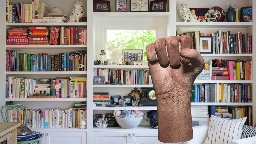Pugno: (144, 33, 206, 95)
